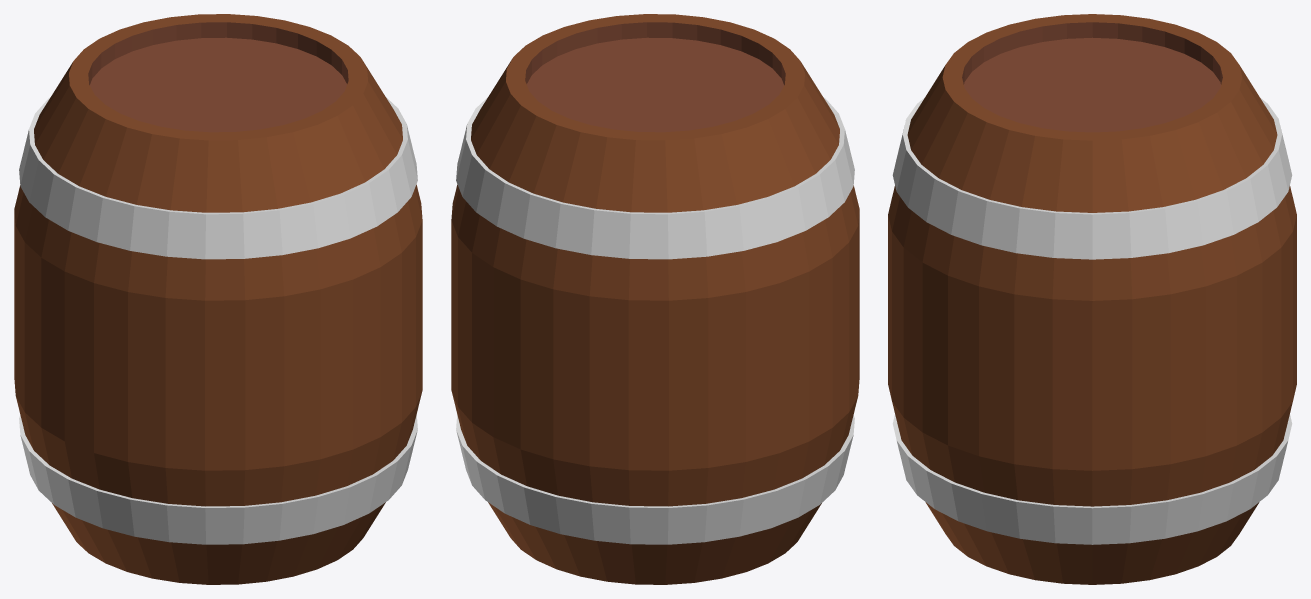
The model's file is Barrel.fbx.
3 views of the same model, side by side, from view 1: azimuth 30°, elevation 25°; view 2: azimuth 150°, elevation 25°; view 3: azimuth 270°, elevation 25° (orthographic).
Visible parts, largest first — view 1: Barrel; view 2: Barrel; view 3: Barrel.
Boxes of the visible parts, <box> form: Barrel: <box>14,14,422,584</box>; Barrel: <box>451,14,859,584</box>; Barrel: <box>888,14,1296,584</box>.
Bounding box in the file's own units: 200 × 240 × 200.
